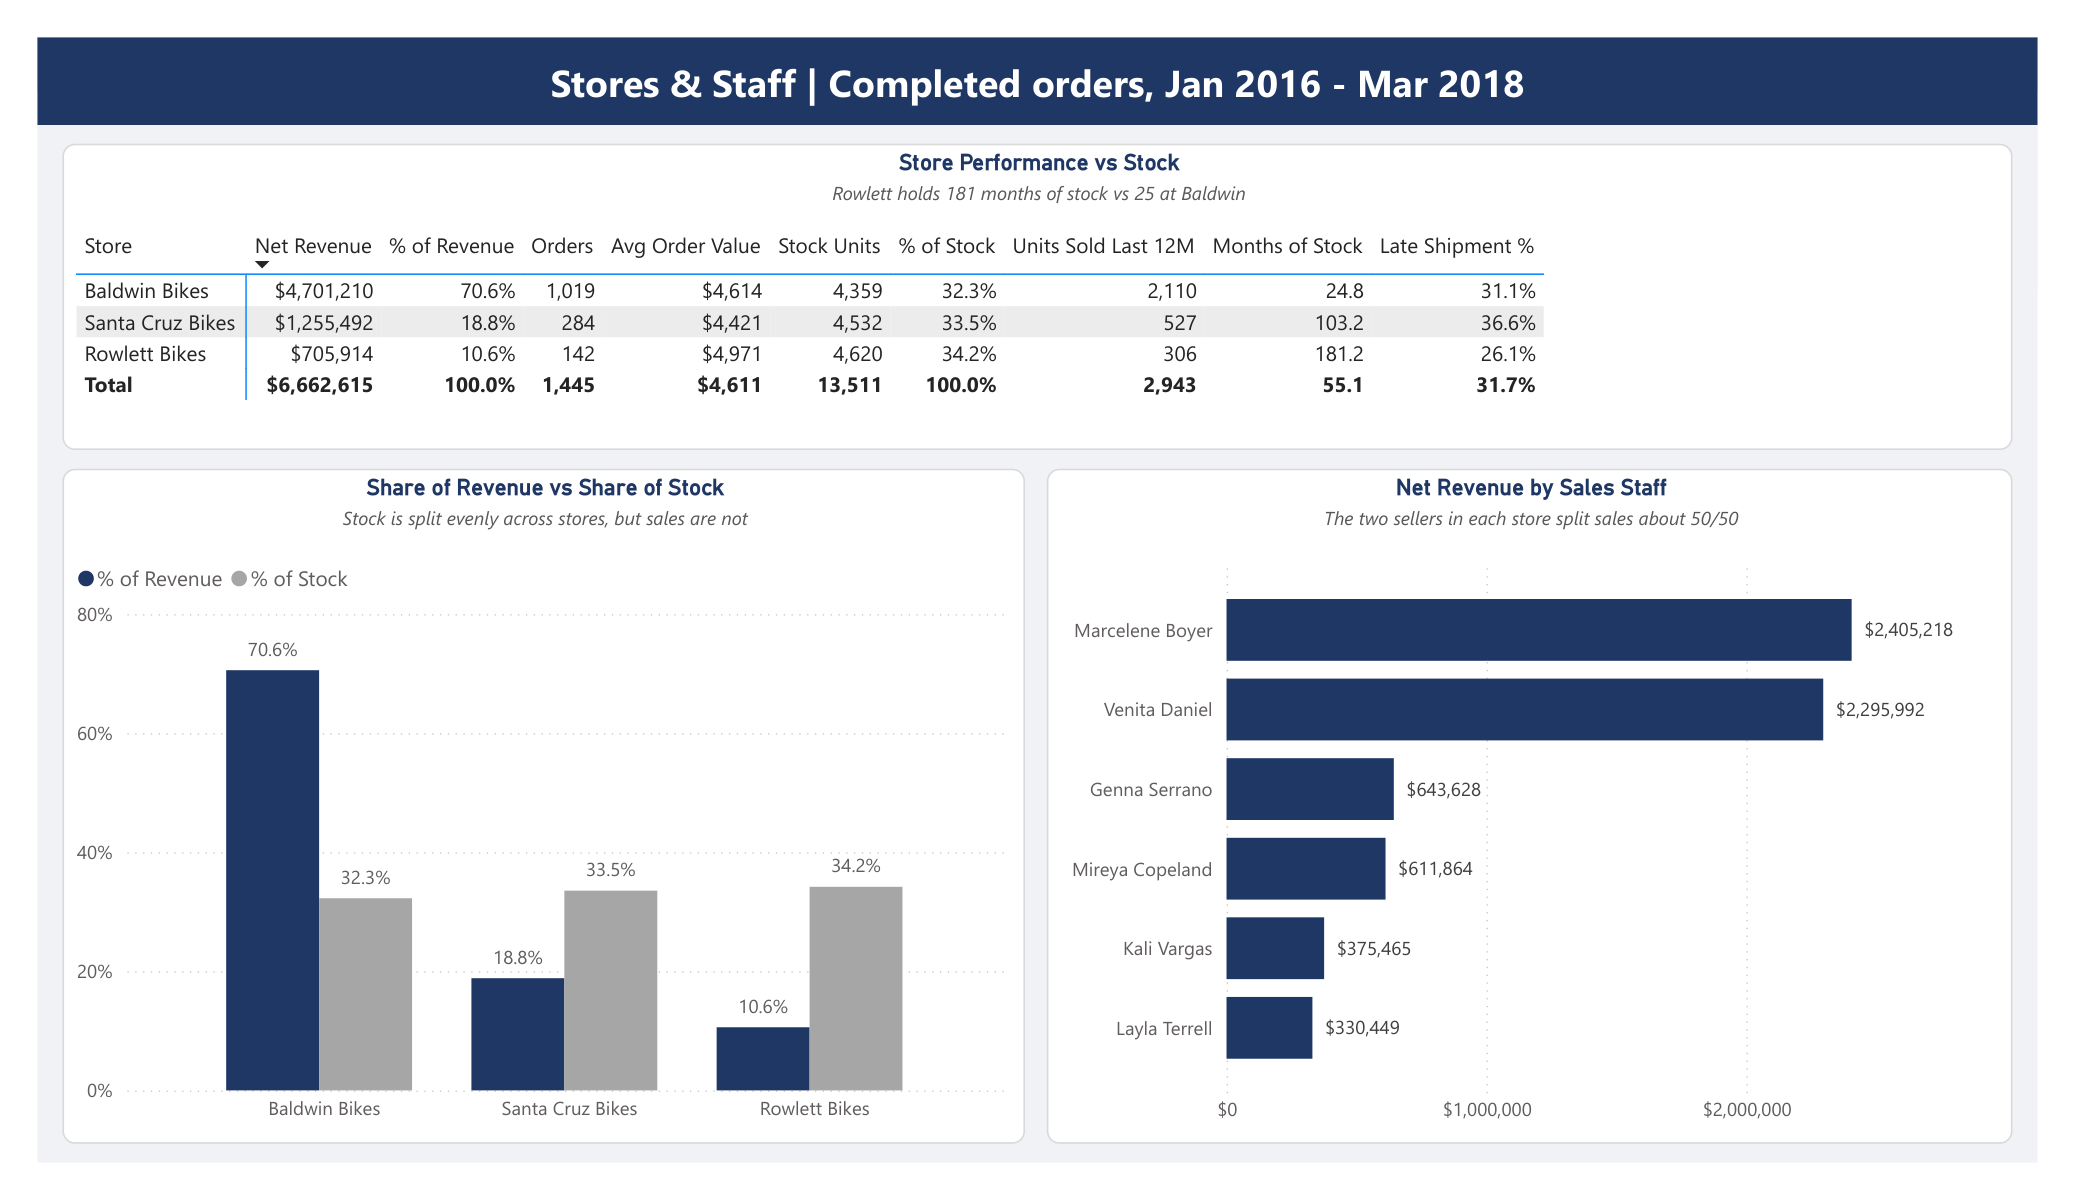

What the dashboard file says about the page in this screenshot:
{"tool":"powerbi","page":{"name":"Stores & Staff","canvas":[1280,720],"ordinal":1},"visuals":[{"type":"shape","box":[0,0,1280,56],"z":13000},{"type":"pivotTable","title":"Store Performance vs Stock","fields":{"Rows":["Stores.Store"],"Values":["Sales.Net Revenue","Sales.% of Revenue","Sales.Orders","Sales.Avg Order Value","Stock.Stock Units","Stock.% of Stock","Sales.Units Sold Last 12M","Stock.Months of Stock","Sales.Late Shipment %"]},"box":[16,68,1248,196],"z":14000},{"type":"clusteredColumnChart","title":"Share of Revenue vs Share of Stock","fields":{"Category":["Stores.Store"],"Y":["Sales.% of Revenue","Stock.% of Stock"]},"box":[16,276,616,432],"z":15000},{"type":"clusteredBarChart","title":"Net Revenue by Sales Staff","fields":{"Category":["Staff.Staff"],"Y":["Sales.Net Revenue"]},"box":[646,276,618,432],"z":16000}]}

Visuals, with their boxes on the page's 1280x720 design canvas (x1, y1, x2, y2). These are canvas units, not pixel positions in the 2075x1200 screenshot, which may show the page scaled, cropped or inside an application window:
shape: bbox=[0, 0, 1280, 56]
"Store Performance vs Stock" pivotTable: bbox=[16, 68, 1264, 264]
"Share of Revenue vs Share of Stock" clusteredColumnChart: bbox=[16, 276, 632, 708]
"Net Revenue by Sales Staff" clusteredBarChart: bbox=[646, 276, 1264, 708]
